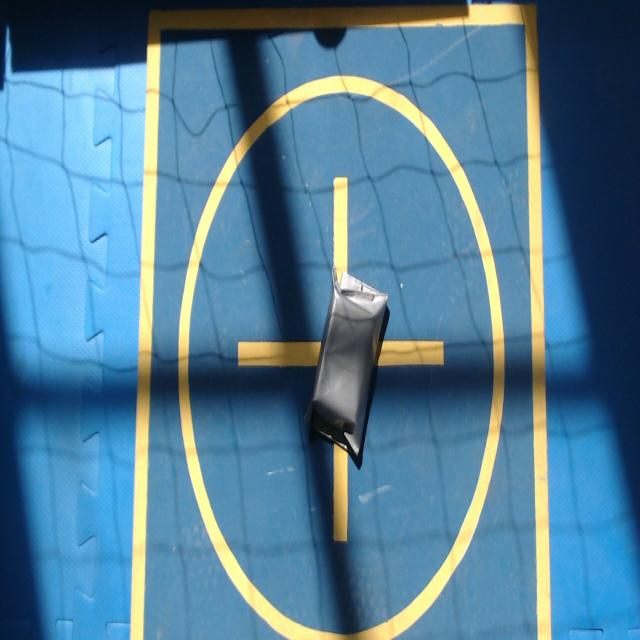lipo: (306, 268, 388, 466)
